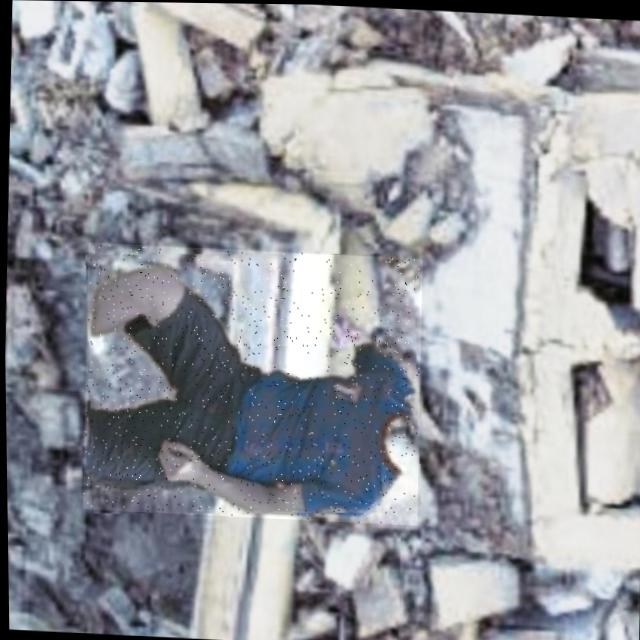Person in Rubble: (77, 242, 424, 524)
